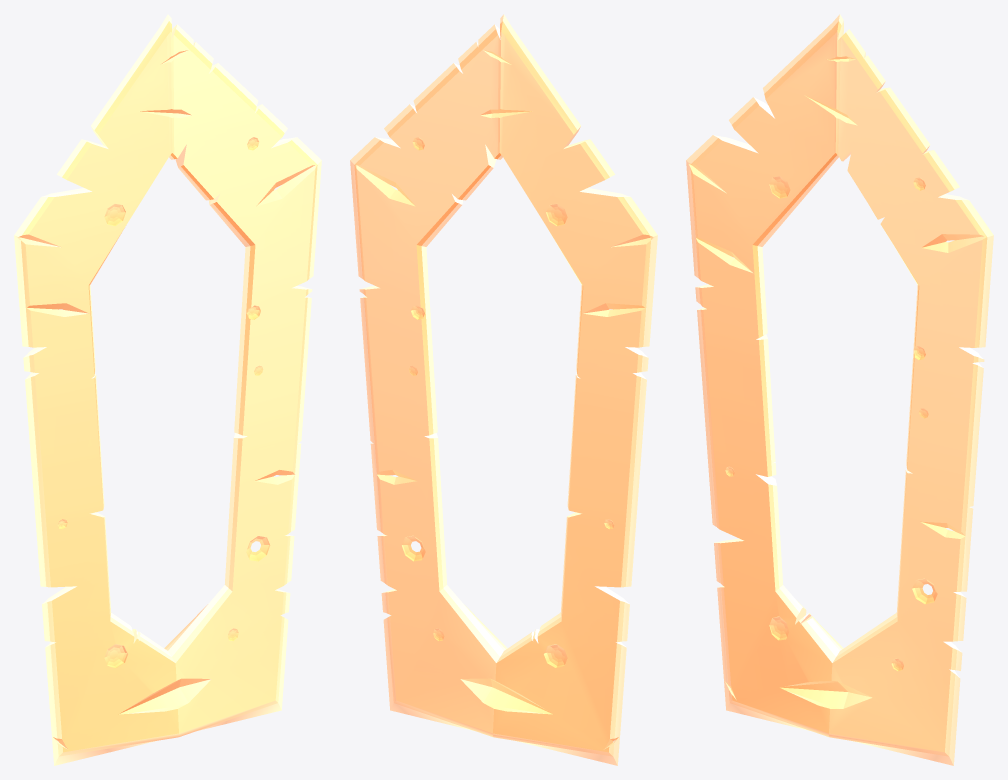
The model's file is wood_blade_bubbles_067.glb.
The picture shows the model from 3 angles, left to right: view 1: azimuth 30°, elevation 25°; view 2: azimuth 150°, elevation 25°; view 3: azimuth 330°, elevation 25°; orthographic projection.
Visible parts, largest first — view 1: wood_blade_bubbles.067; view 2: wood_blade_bubbles.067; view 3: wood_blade_bubbles.067.
Part boxes in pixels (<box>): wood_blade_bubbles.067: <box>14,14,321,765</box>; wood_blade_bubbles.067: <box>350,14,657,765</box>; wood_blade_bubbles.067: <box>686,14,993,765</box>.
Size of the model in its own units: 5.08 by 11.42 by 0.6326.
1 material, 1 textured.
